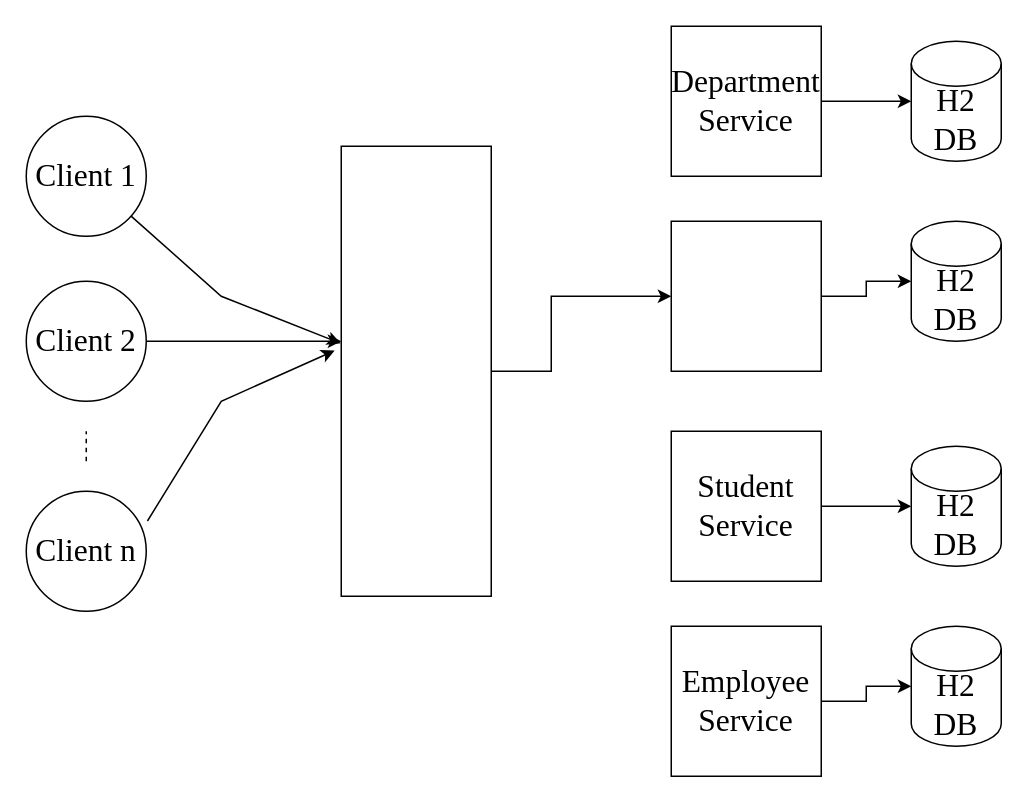
Some shapes in this 1028 by 803 pixel diagram are drawn without their labels. The shapes that lost their labels are listed below. From the top down, each one's box as (x1, y1, x2, y2) in pixels, then its label:
(670, 220, 821, 371): College Service
(340, 145, 491, 596): Gateway Service
